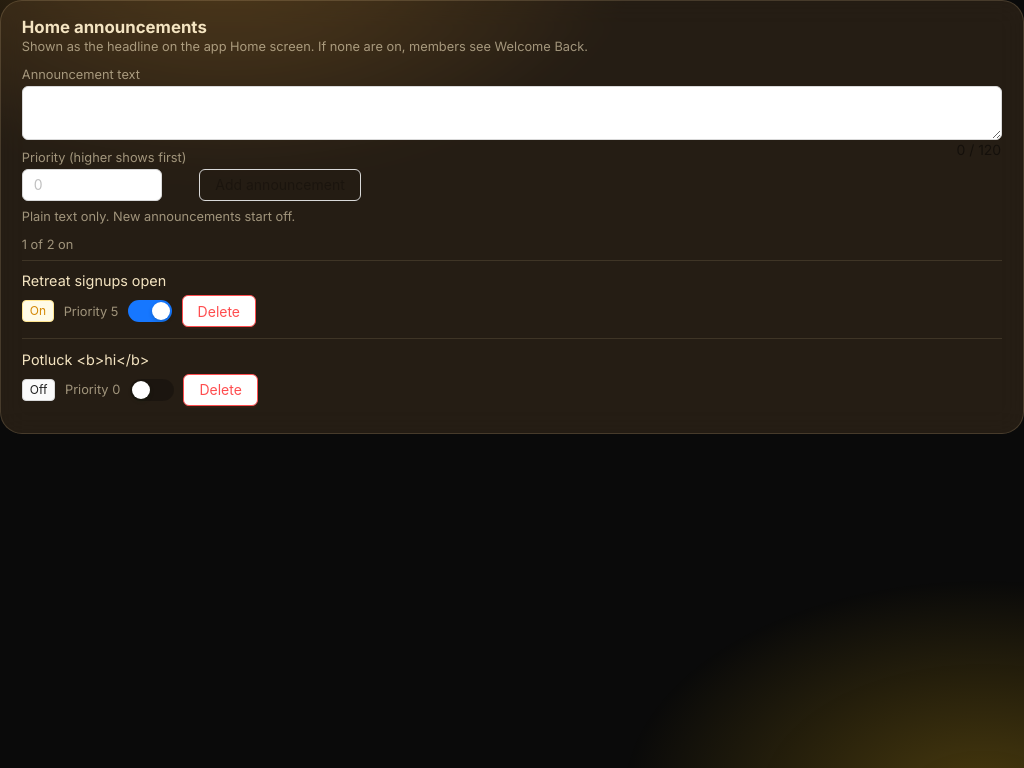
Test: AdminHomeMessages › server detail is surfaced on create failure
expect the text "Retreat signups open" is shown: met, box [22,272,166,289]
Type "Hello" into the text box labelled "Announcement text" at [512, 113], box [23,87,1001,139]
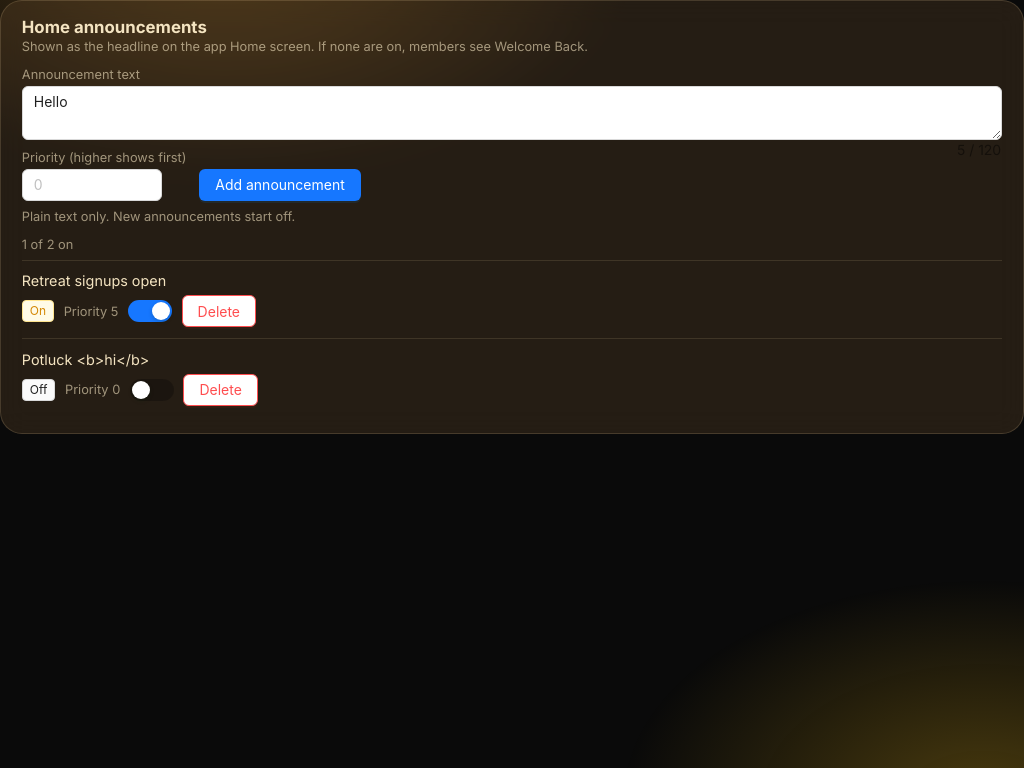
Click the button "Add announcement" at [280, 185], box [199,169,361,201]
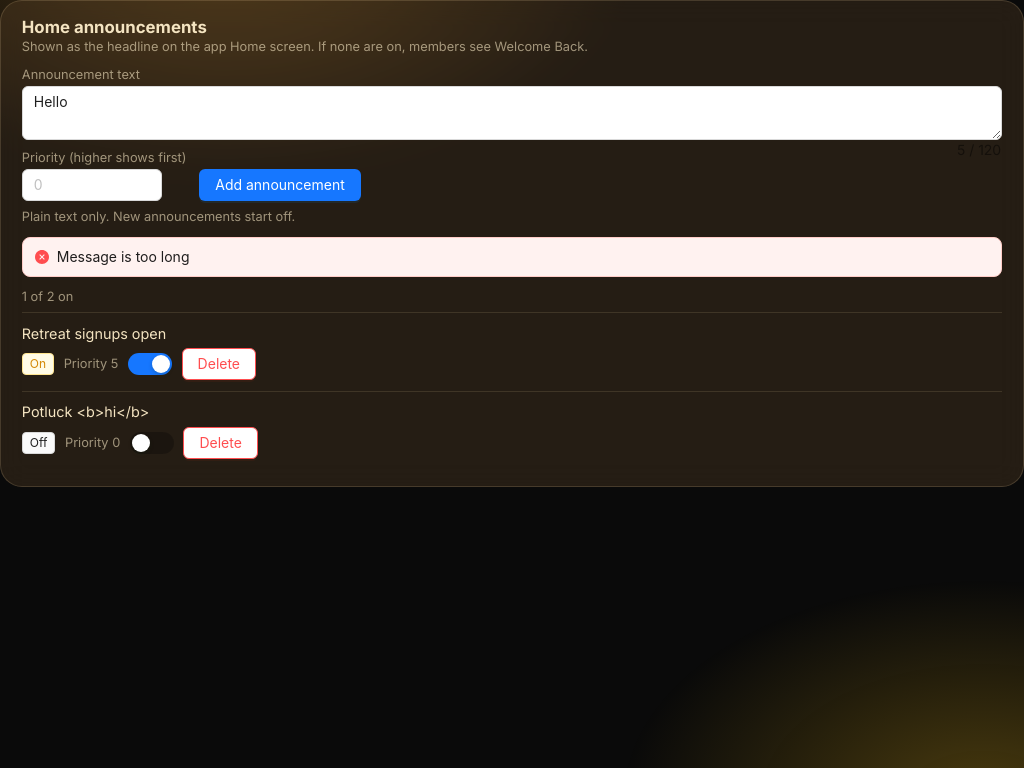
expect the text "Message is too long" is shown: met, box [57,248,190,265]
